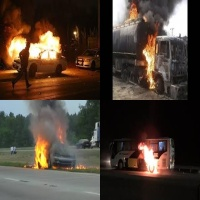fire: (8, 30, 61, 59), (143, 32, 158, 88), (138, 139, 159, 176), (34, 134, 47, 167), (54, 166, 99, 170), (54, 126, 63, 143), (128, 2, 136, 20)
